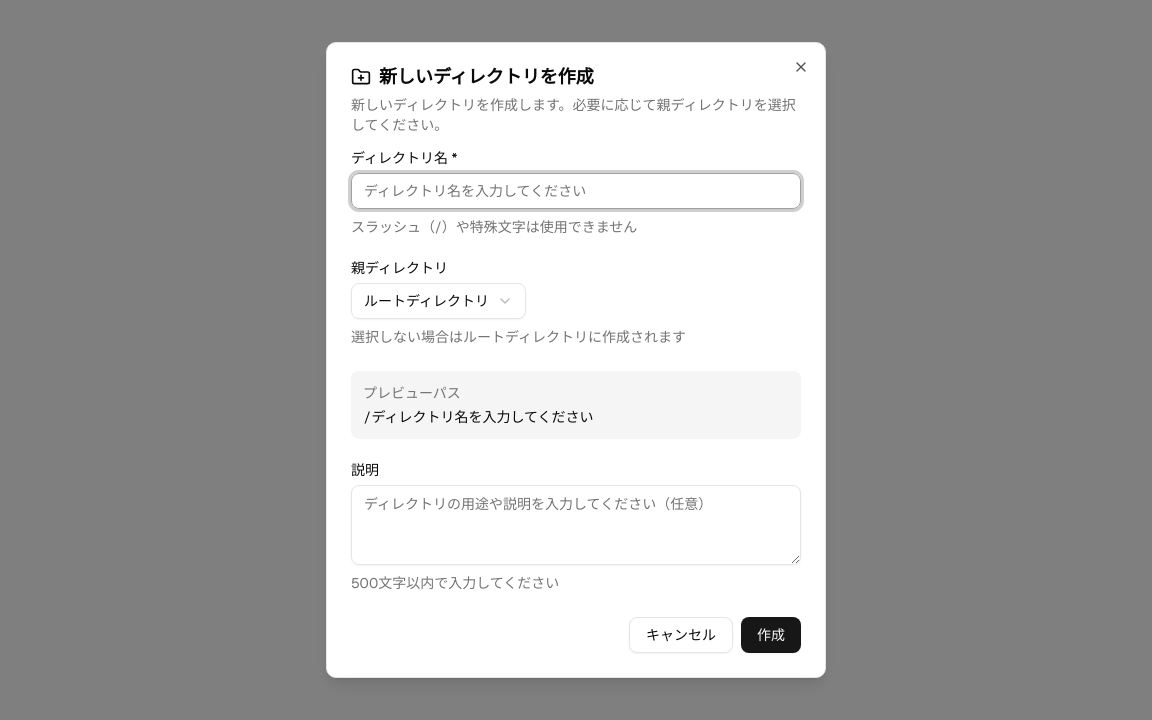
Test: DirectoryDialog › パスプレビュー › 入力されたディレクトリ名でパスが更新される
Type "new-directory" into the field with placeholder "ディレクトリ名を入力してください" at (576,191), box [351,173,801,209]
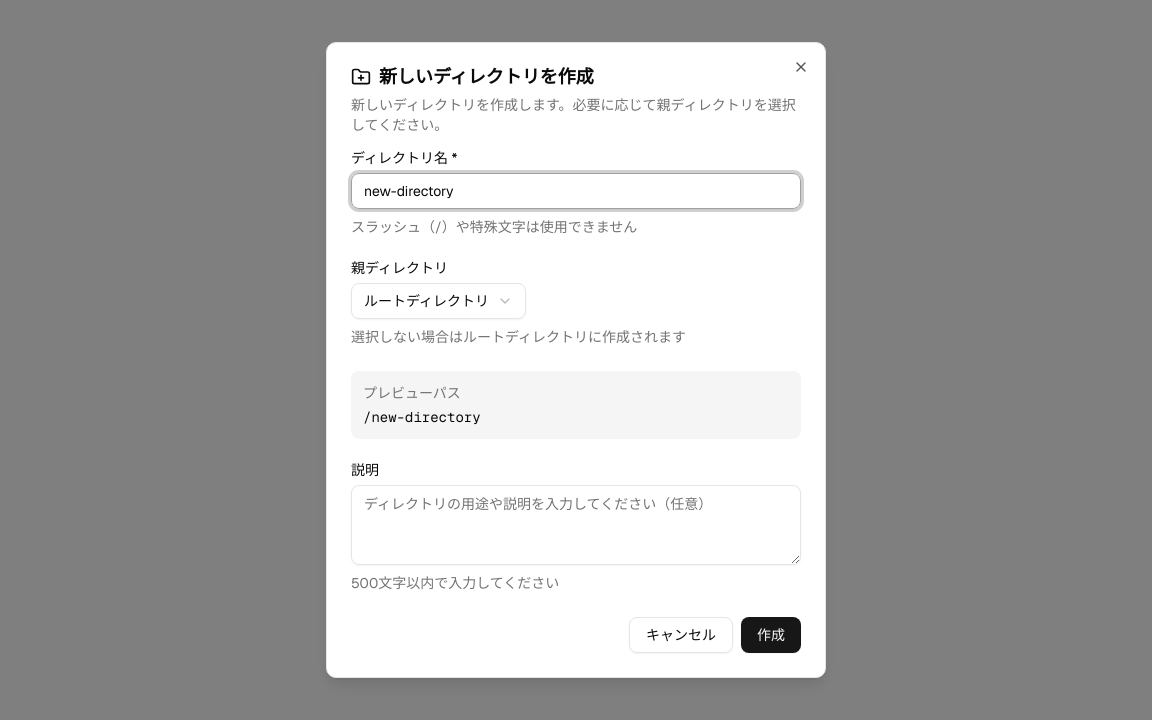
Expected: the text "/new-directory" is shown, [363,408,481,426]
